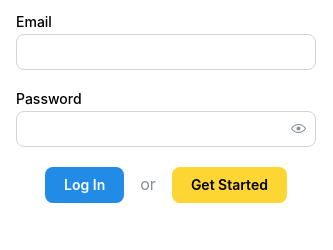
Test: LoginForm › tries to log-in a non-existent user and displays an error message
Type "nonexistent@example.com" into the field labelled "Email" at point(166, 52), box [16,34,316,70]
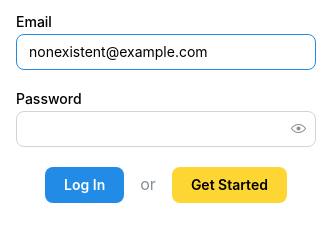
Type "wrongpassword" into the password field labelled "Password" at point(166, 129), box [17,112,315,146]
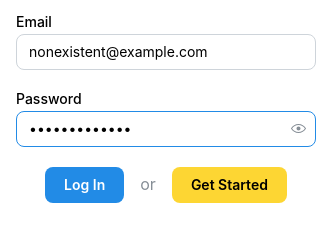
Click the button "Log In" at point(85, 185), box [45,167,124,203]
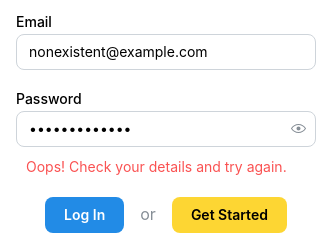
expect the text "Oops! Check your details and try again." is shown: met, box [26,157,306,177]
